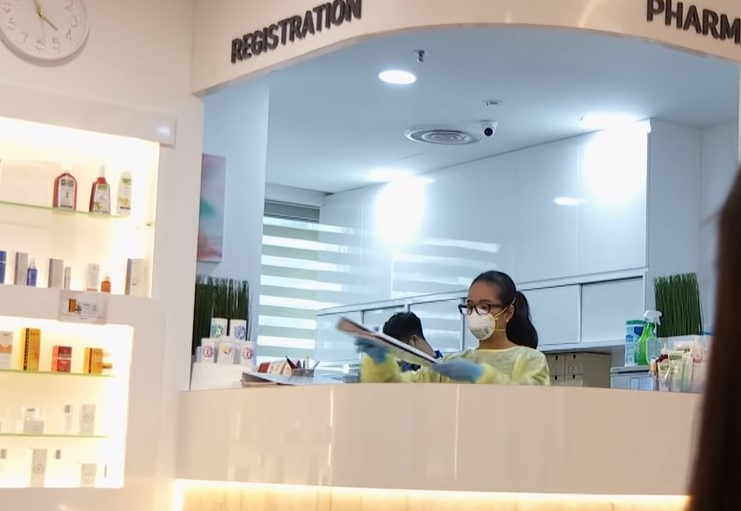face_with_mask: (459, 272, 524, 347)
